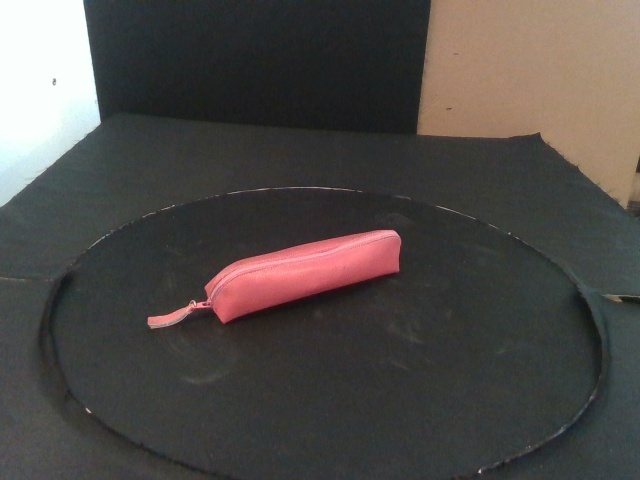pencil_case: (204, 229, 401, 325)
